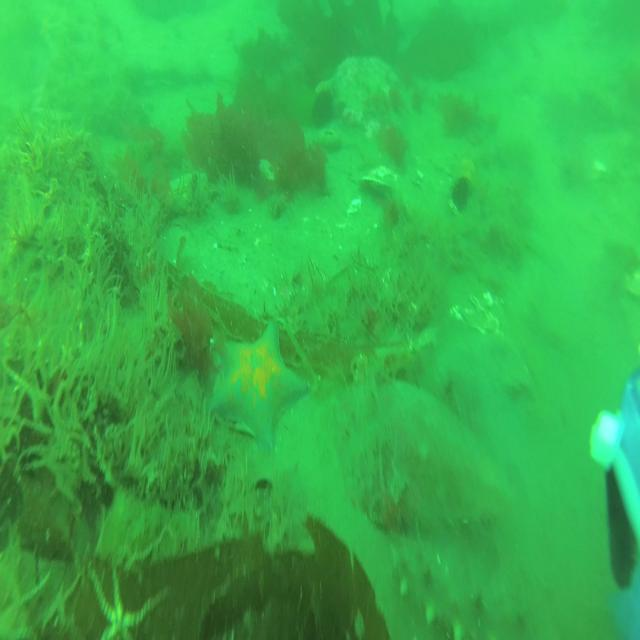echinus: (311, 86, 336, 129), (451, 174, 472, 215)
starfish: (207, 316, 308, 459)
